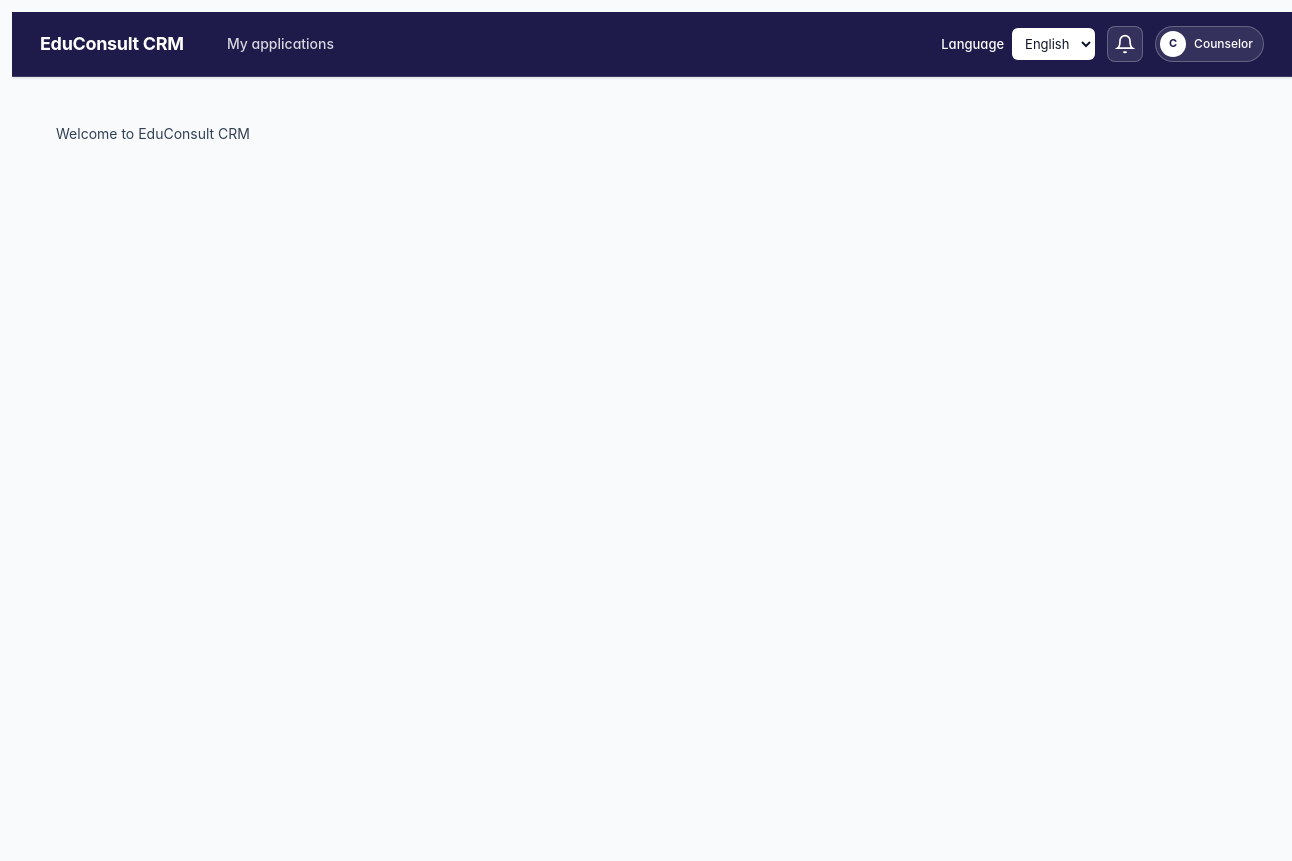
Scenario: AppRouter routes › signs out from inside the app shell and lands on the login form
The width and height of the screenshot is (1292, 861).
Click the button with test id "account-menu-trigger": (1210, 44) [1155, 26, 1264, 62]
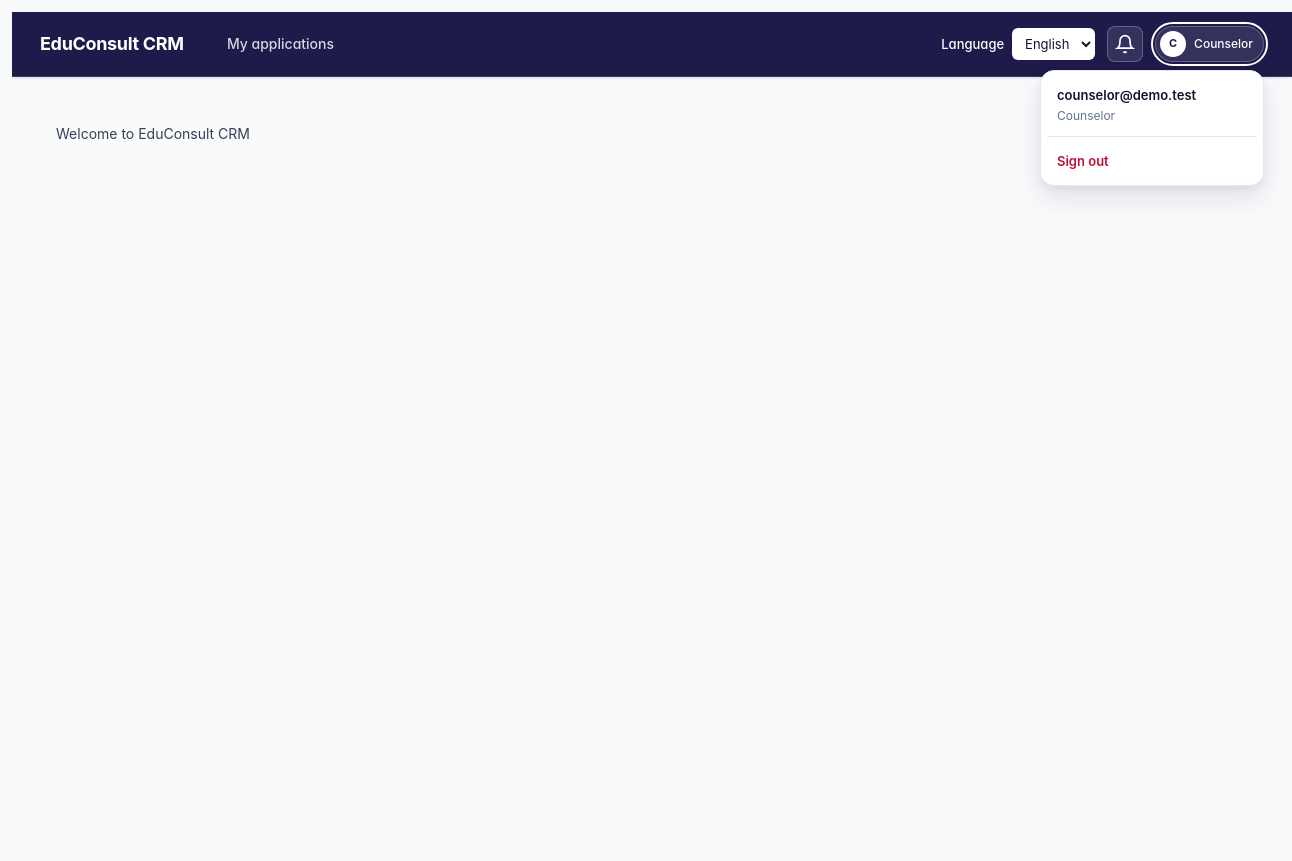
Click the menu item with test id "account-menu-signout": (1152, 161) [1047, 143, 1257, 179]
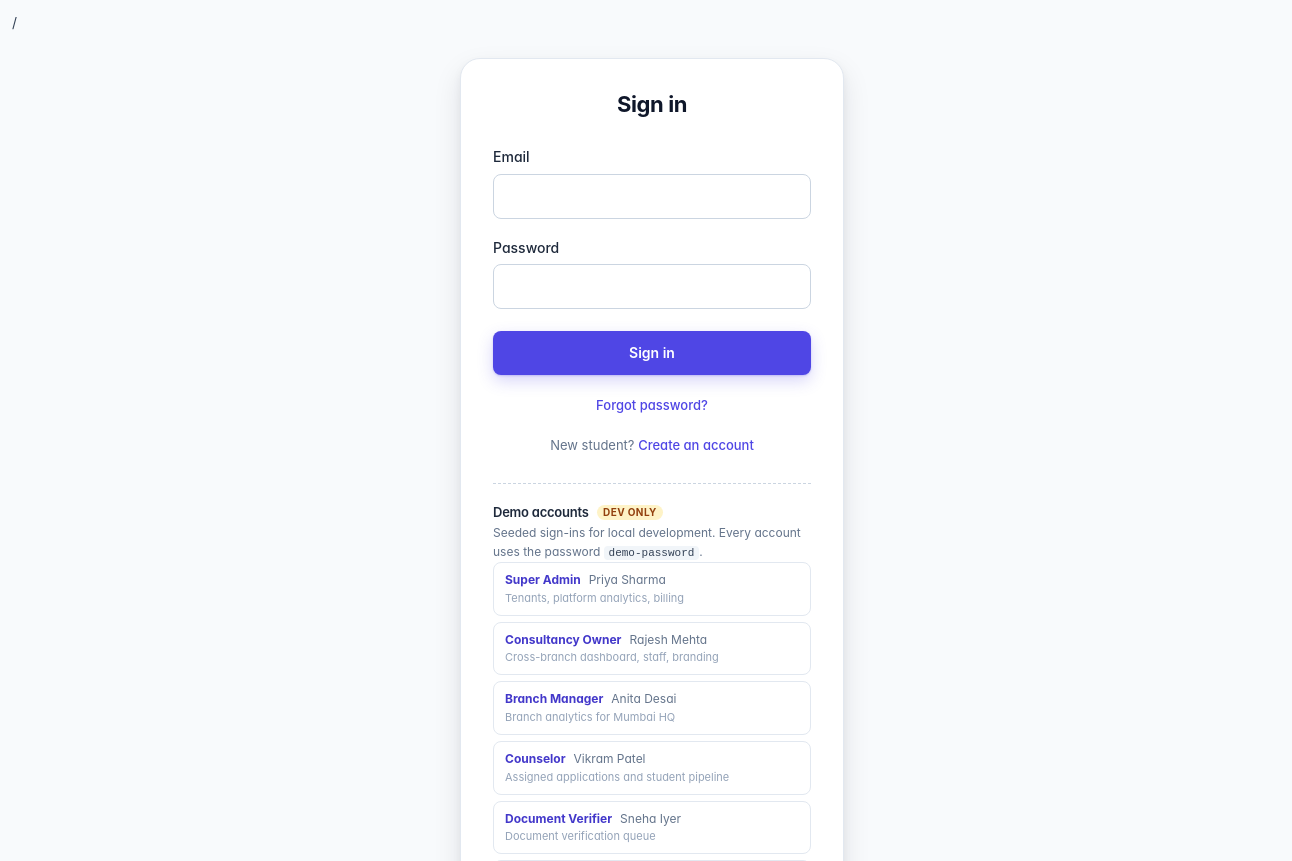
Expected: the heading "Sign in" is shown, [617, 91, 687, 117]
Expected: the button with test id "account-menu-trigger" is gone
